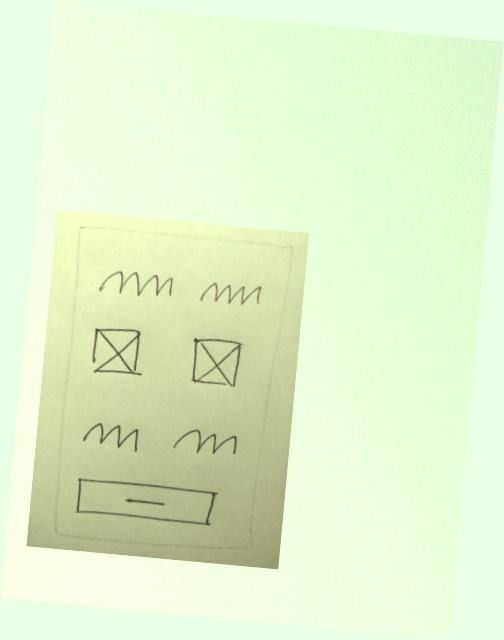button: (70, 474, 219, 530)
image: (184, 332, 246, 393), (86, 323, 150, 380)
text: (94, 263, 177, 307), (166, 419, 242, 464), (77, 414, 145, 458), (194, 276, 265, 315)
